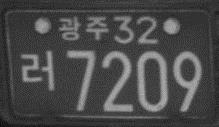0: (136, 49, 169, 112)
2: (101, 49, 133, 115), (136, 15, 159, 45)
3: (112, 14, 135, 45)
7: (64, 47, 97, 112)
9: (172, 50, 204, 114)
광주_O: (57, 14, 108, 42)
러: (19, 49, 55, 93)
